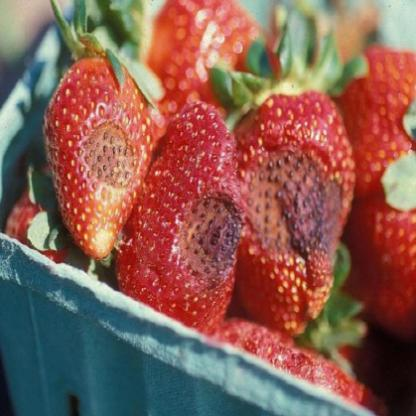Strawberry_Anthracnose_Fruit_Rot: (242, 138, 350, 268), (170, 189, 246, 292), (77, 114, 141, 193)
